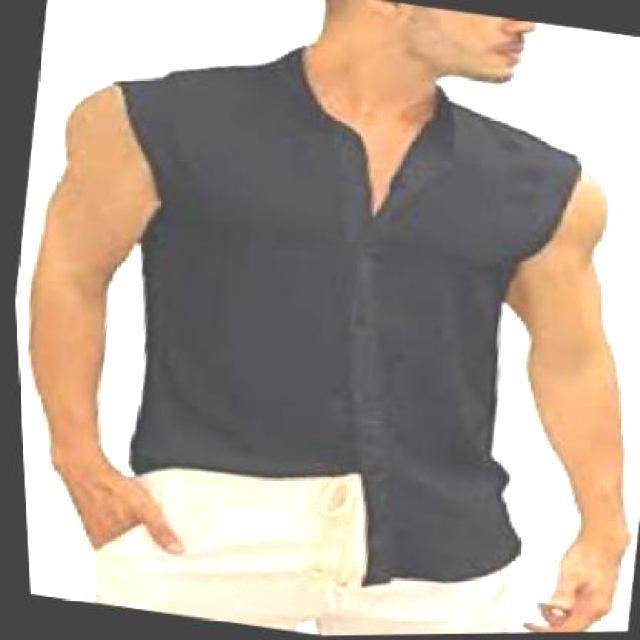no_vest: (39, 11, 610, 617)
